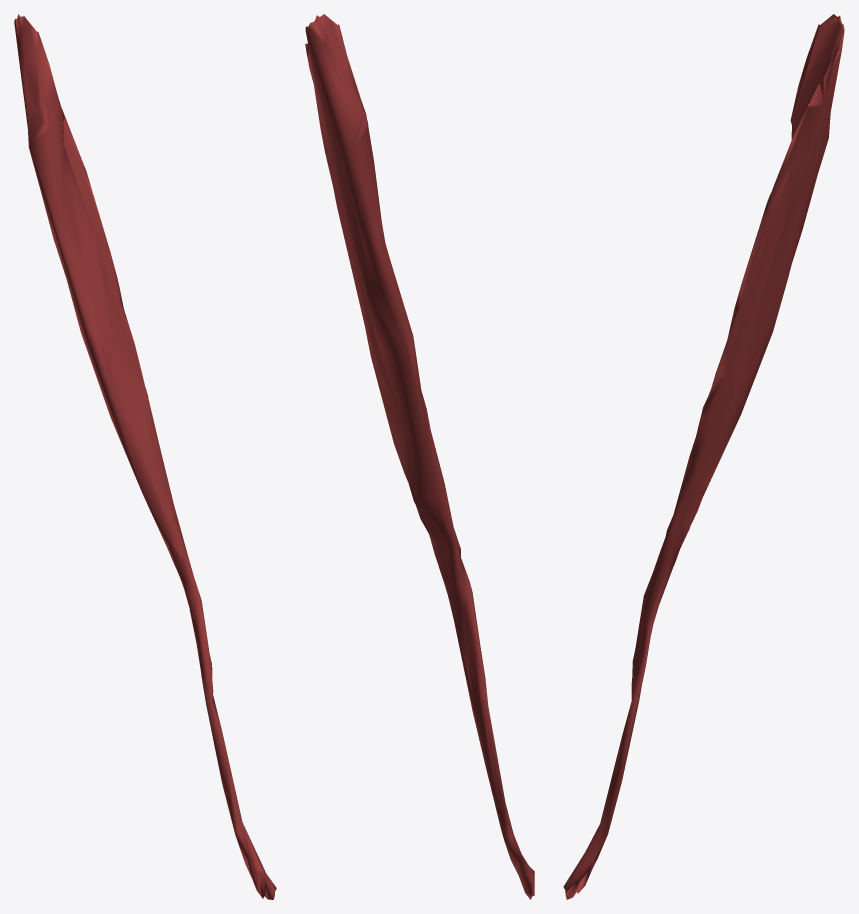
The model's file is ulnar-head-of-extensor-carpi-ulnaris-r.glb.
3 renders of one model, left to right at view 1: azimuth 90°, elevation 25°; view 2: azimuth 150°, elevation 25°; view 3: azimuth 270°, elevation 25°, orthographic. The views are drawn at different scales.
Visible parts, largest first — view 1: Ulnar head of extensor carpi ulnaris.r; view 2: Ulnar head of extensor carpi ulnaris.r; view 3: Ulnar head of extensor carpi ulnaris.r.
Boxes of the visible parts, x1=… form: Ulnar head of extensor carpi ulnaris.r: x1=14, y1=14, x2=276, y2=899; Ulnar head of extensor carpi ulnaris.r: x1=305, y1=14, x2=534, y2=899; Ulnar head of extensor carpi ulnaris.r: x1=563, y1=14, x2=844, y2=899.
Size of the model in its own units: 0.0231 by 0.2049 by 0.057.
